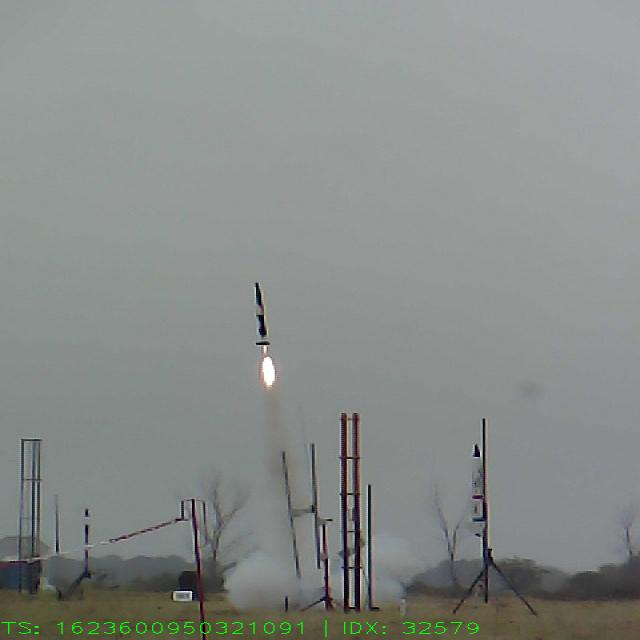Rocket: (466, 442, 487, 538), (252, 281, 272, 346)
